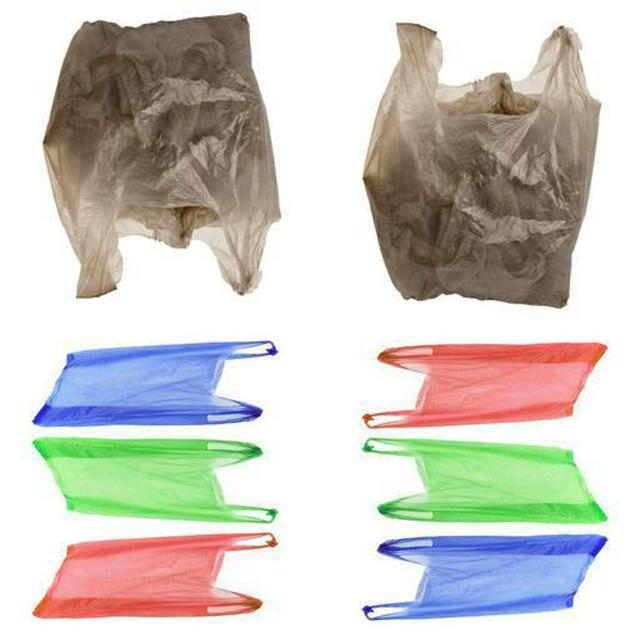Single-layer Plastic: (44, 14, 280, 298), (364, 24, 600, 308), (34, 532, 276, 619), (364, 342, 606, 428), (364, 438, 606, 524), (34, 341, 276, 426), (364, 535, 606, 620), (34, 438, 276, 522)
